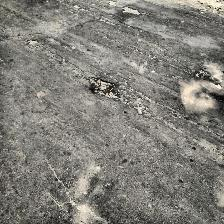pothole: (86, 76, 118, 100), (122, 6, 140, 15), (26, 39, 38, 45), (108, 0, 116, 6)
